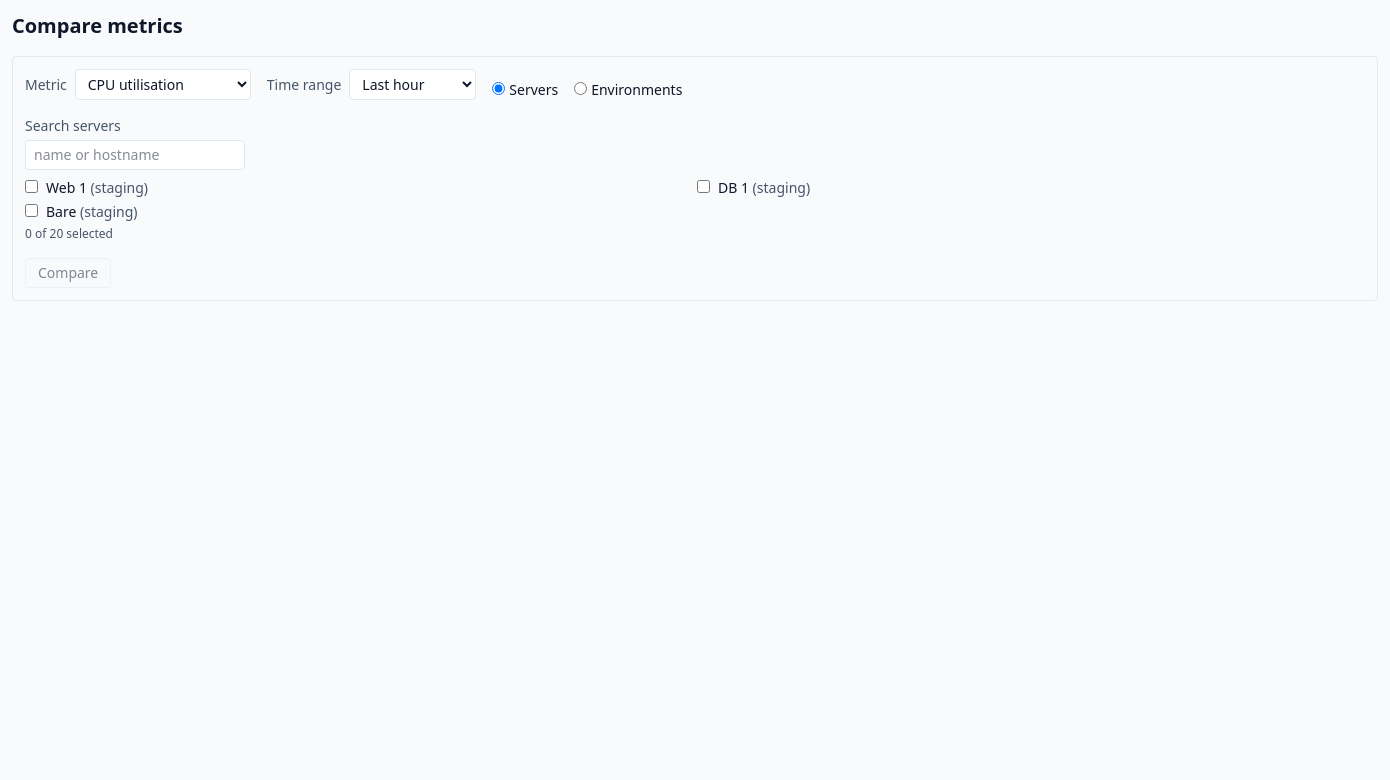
Test: Compare › announces servers the backend left out
Click the checkbox labelled "Web 1 (staging)" at (32, 186), box [25,180,38,193]
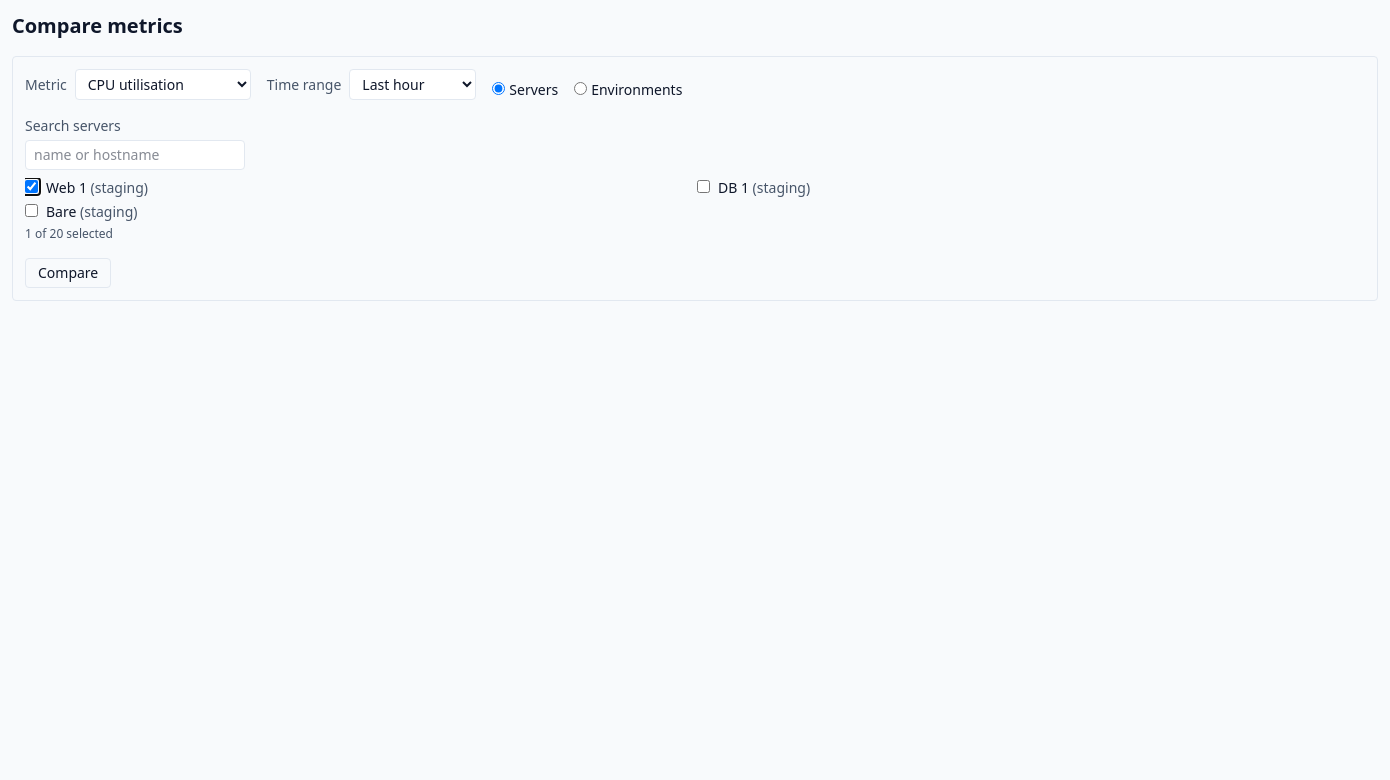
Click the button "Compare" at (68, 273), box [25,258,111,288]
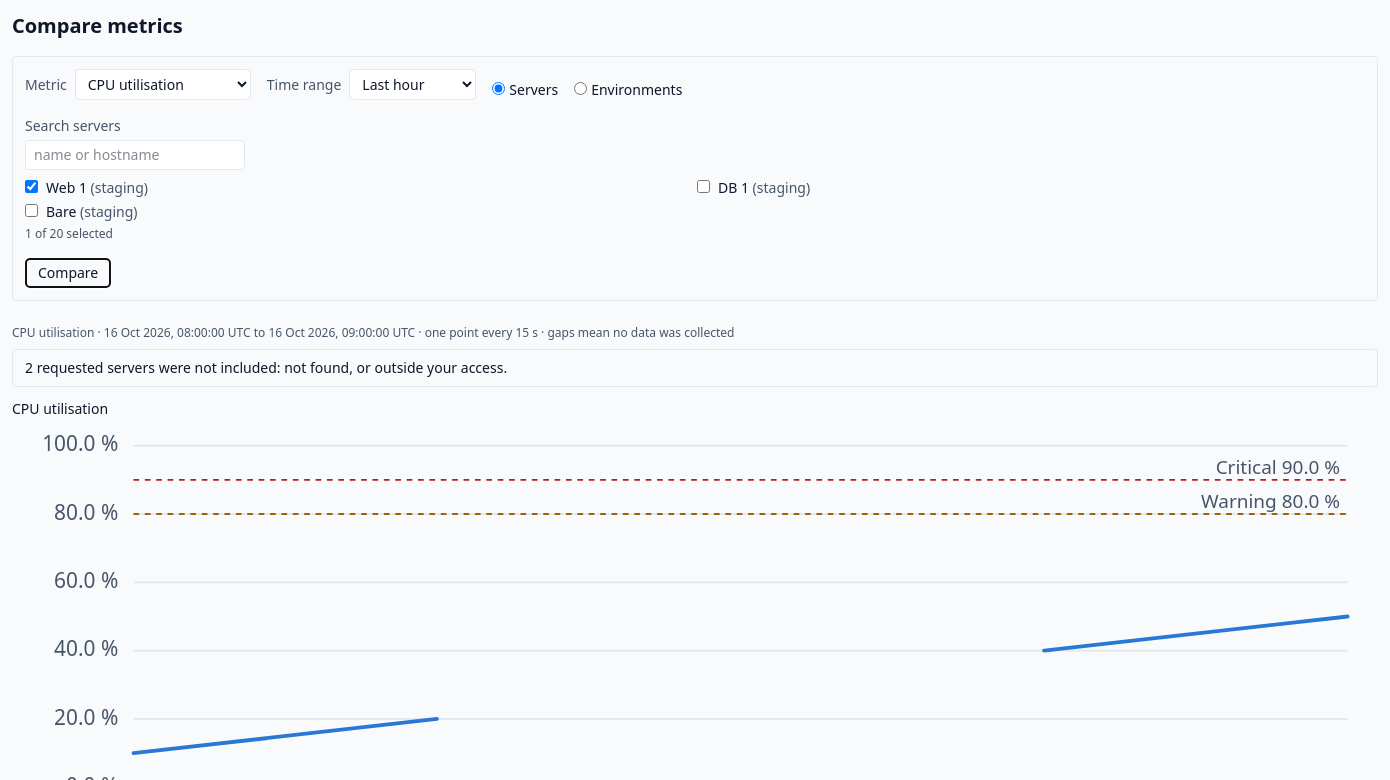
Now the text "2 requested servers were not included: not found, or outside your access." is shown, box [12,349,1378,387]
